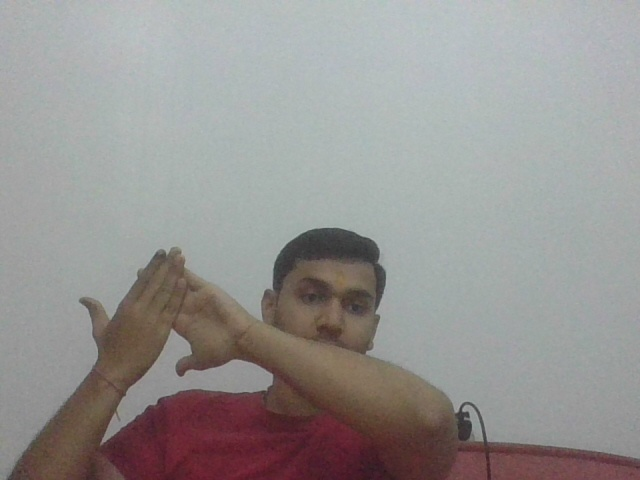H: (72, 245, 251, 385)
